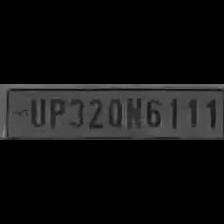0: (105, 96, 123, 128)
1: (165, 95, 183, 129), (182, 95, 200, 129), (200, 96, 218, 128)
2: (84, 96, 104, 130)
3: (66, 96, 84, 128)
6: (140, 95, 164, 129)
N: (124, 95, 142, 129)
P: (44, 96, 66, 128)
U: (26, 96, 44, 128)
